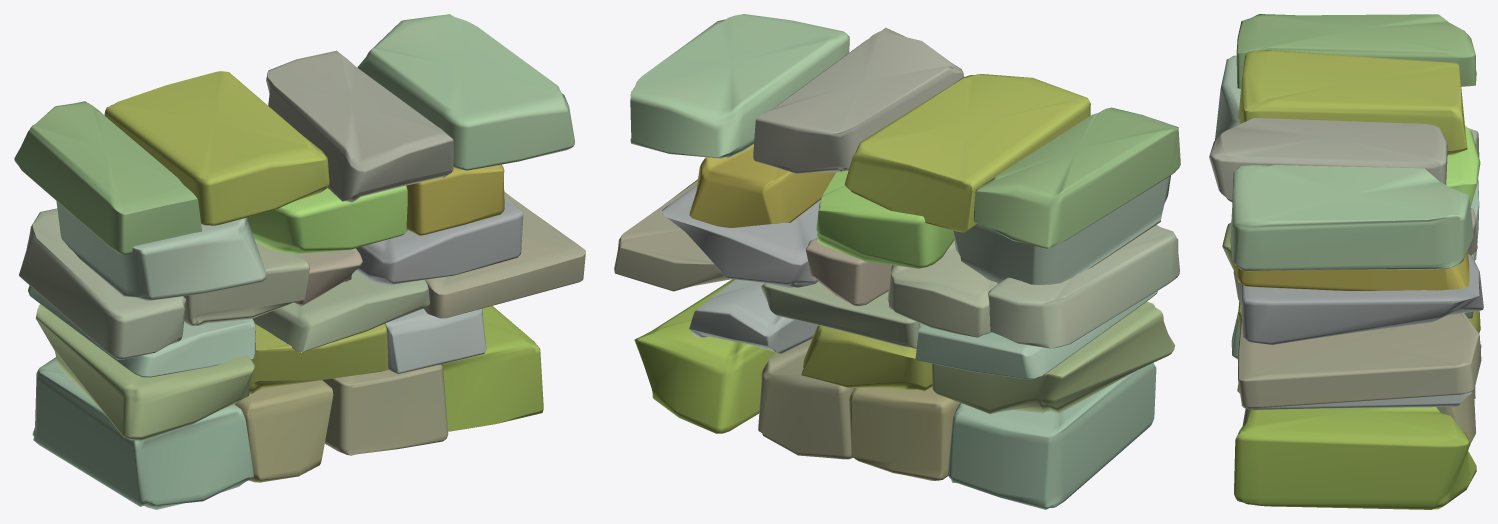
The model's file is SM_Scar_B.glb.
3 renders of one model, left to right at view 1: azimuth 30°, elevation 25°; view 2: azimuth 150°, elevation 25°; view 3: azimuth 270°, elevation 25°, orthographic. The views are drawn at different scales.
Visible parts, largest first — view 1: SM_Scar_B; view 2: SM_Scar_B; view 3: SM_Scar_B.
Boxes of the visible parts, x1,y1,x2,y2 form: SM_Scar_B: (14,14,585,509); SM_Scar_B: (614,14,1180,509); SM_Scar_B: (1209,14,1483,509).
Size of the model in its own units: 6.49 by 4.3 by 3.43.
